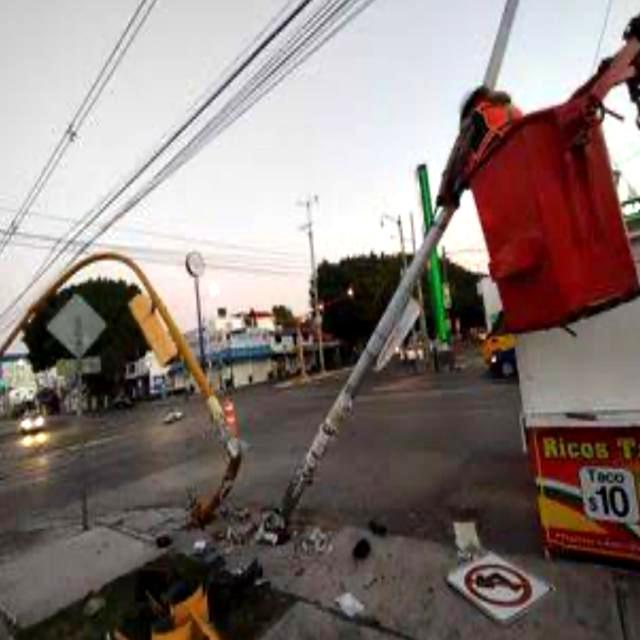Broken Pole: (278, 3, 521, 522), (0, 252, 247, 517)
